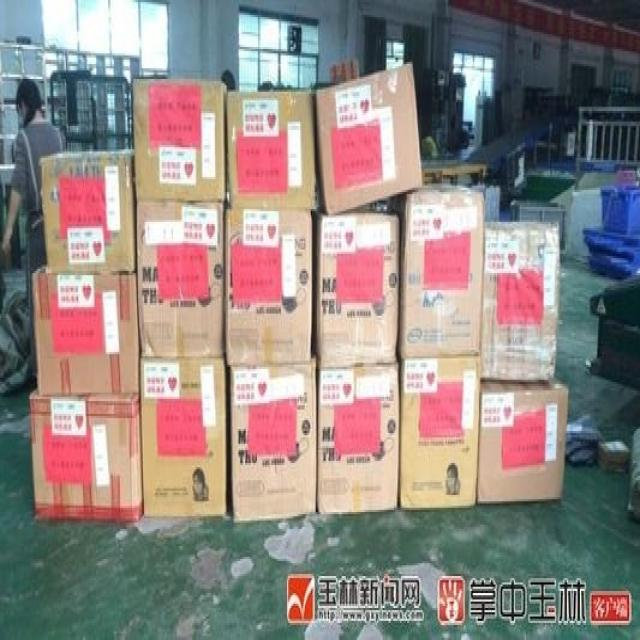box: (391, 183, 485, 361), (315, 62, 423, 215), (29, 386, 143, 521), (228, 356, 317, 523), (136, 198, 225, 358), (140, 358, 229, 518), (312, 207, 400, 367), (32, 265, 140, 395), (225, 209, 313, 365), (317, 361, 400, 512), (400, 352, 480, 508), (480, 222, 558, 380), (40, 147, 137, 273), (133, 79, 227, 201), (477, 378, 568, 503), (227, 92, 318, 207), (597, 439, 630, 474)
